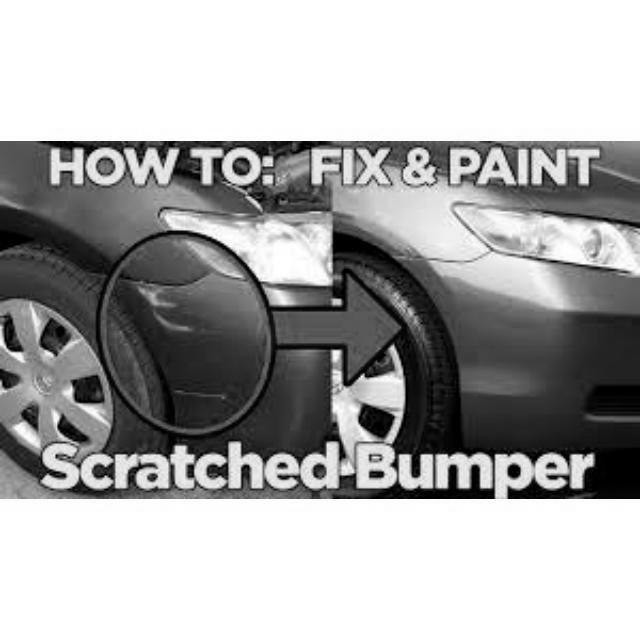front-bumper-dent: (54, 253, 337, 474)
